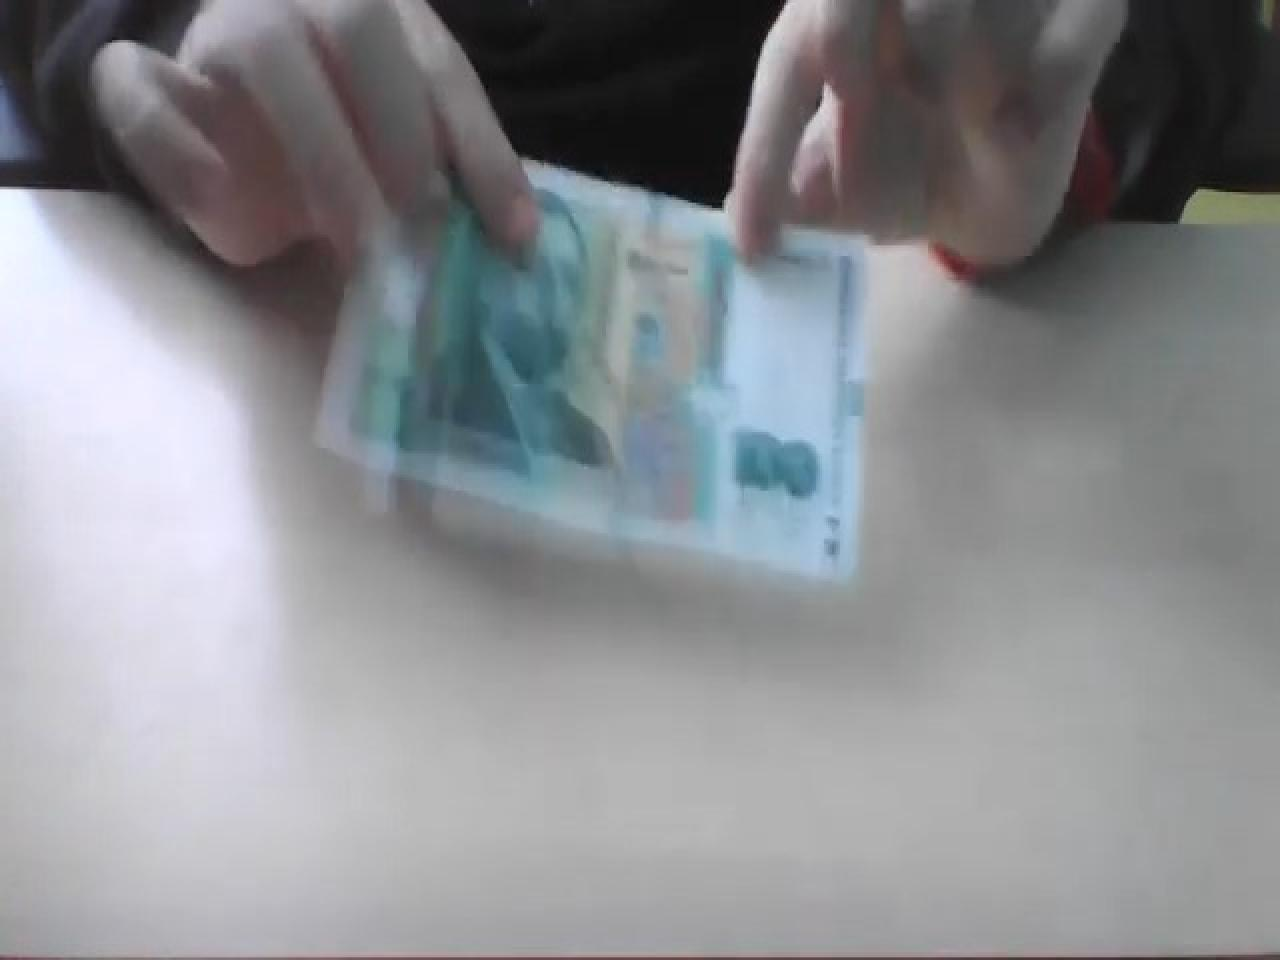100leva: (314, 154, 870, 589)
